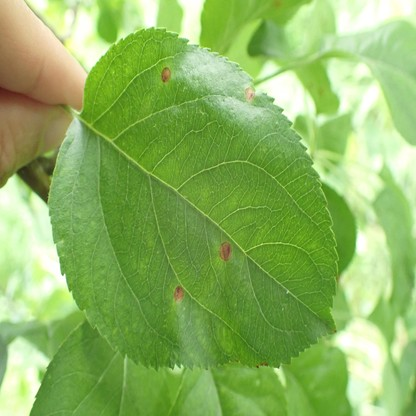frogeye_leaf_spot: (219, 241, 231, 260), (161, 66, 171, 84), (174, 286, 185, 301), (244, 87, 254, 99)
